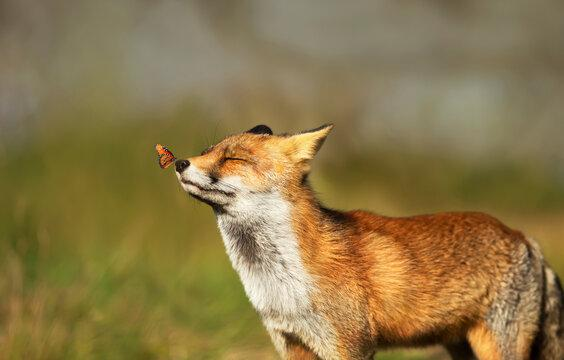fox: (158, 113, 564, 360)
